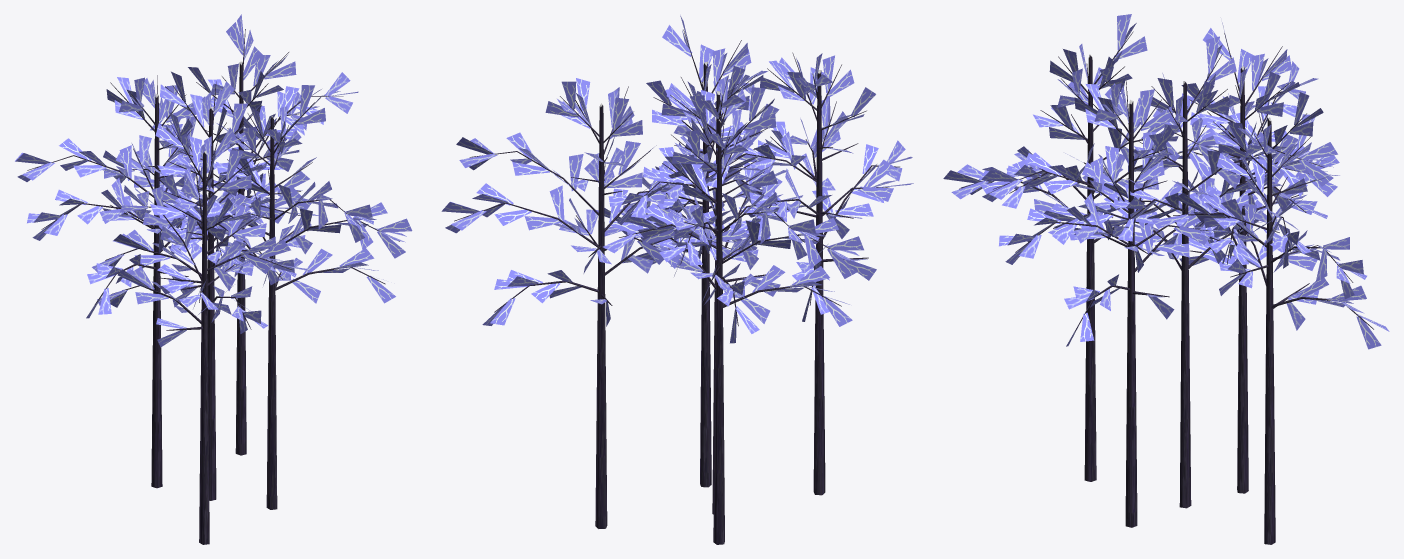
Rendered from BirchGroup.fbx.
3 renders of one model, left to right at view 1: azimuth 30°, elevation 25°; view 2: azimuth 150°, elevation 25°; view 3: azimuth 270°, elevation 25°, orthographic. The views are drawn at different scales.
Visible parts, largest first — view 1: LOD0; view 2: LOD0; view 3: LOD0.
Boxes of the visible parts, <box> form: LOD0: <box>15,14,412,544</box>; LOD0: <box>441,15,913,544</box>; LOD0: <box>943,14,1389,544</box>.
Size of what is drawn, in the model's own units: 17.71 by 20.43 by 18.11.
